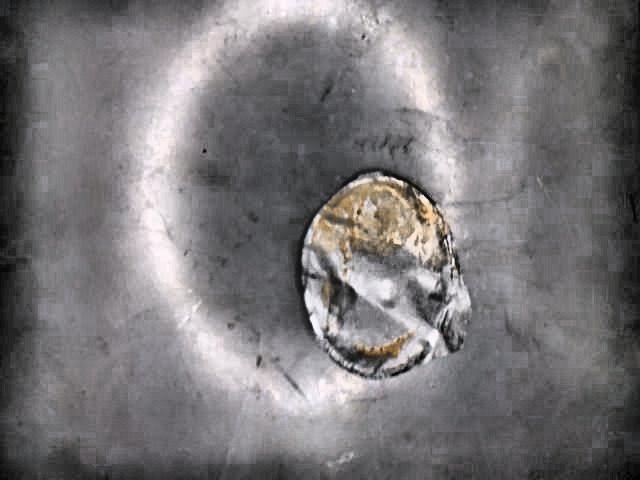Almennt: (297, 168, 475, 382)
